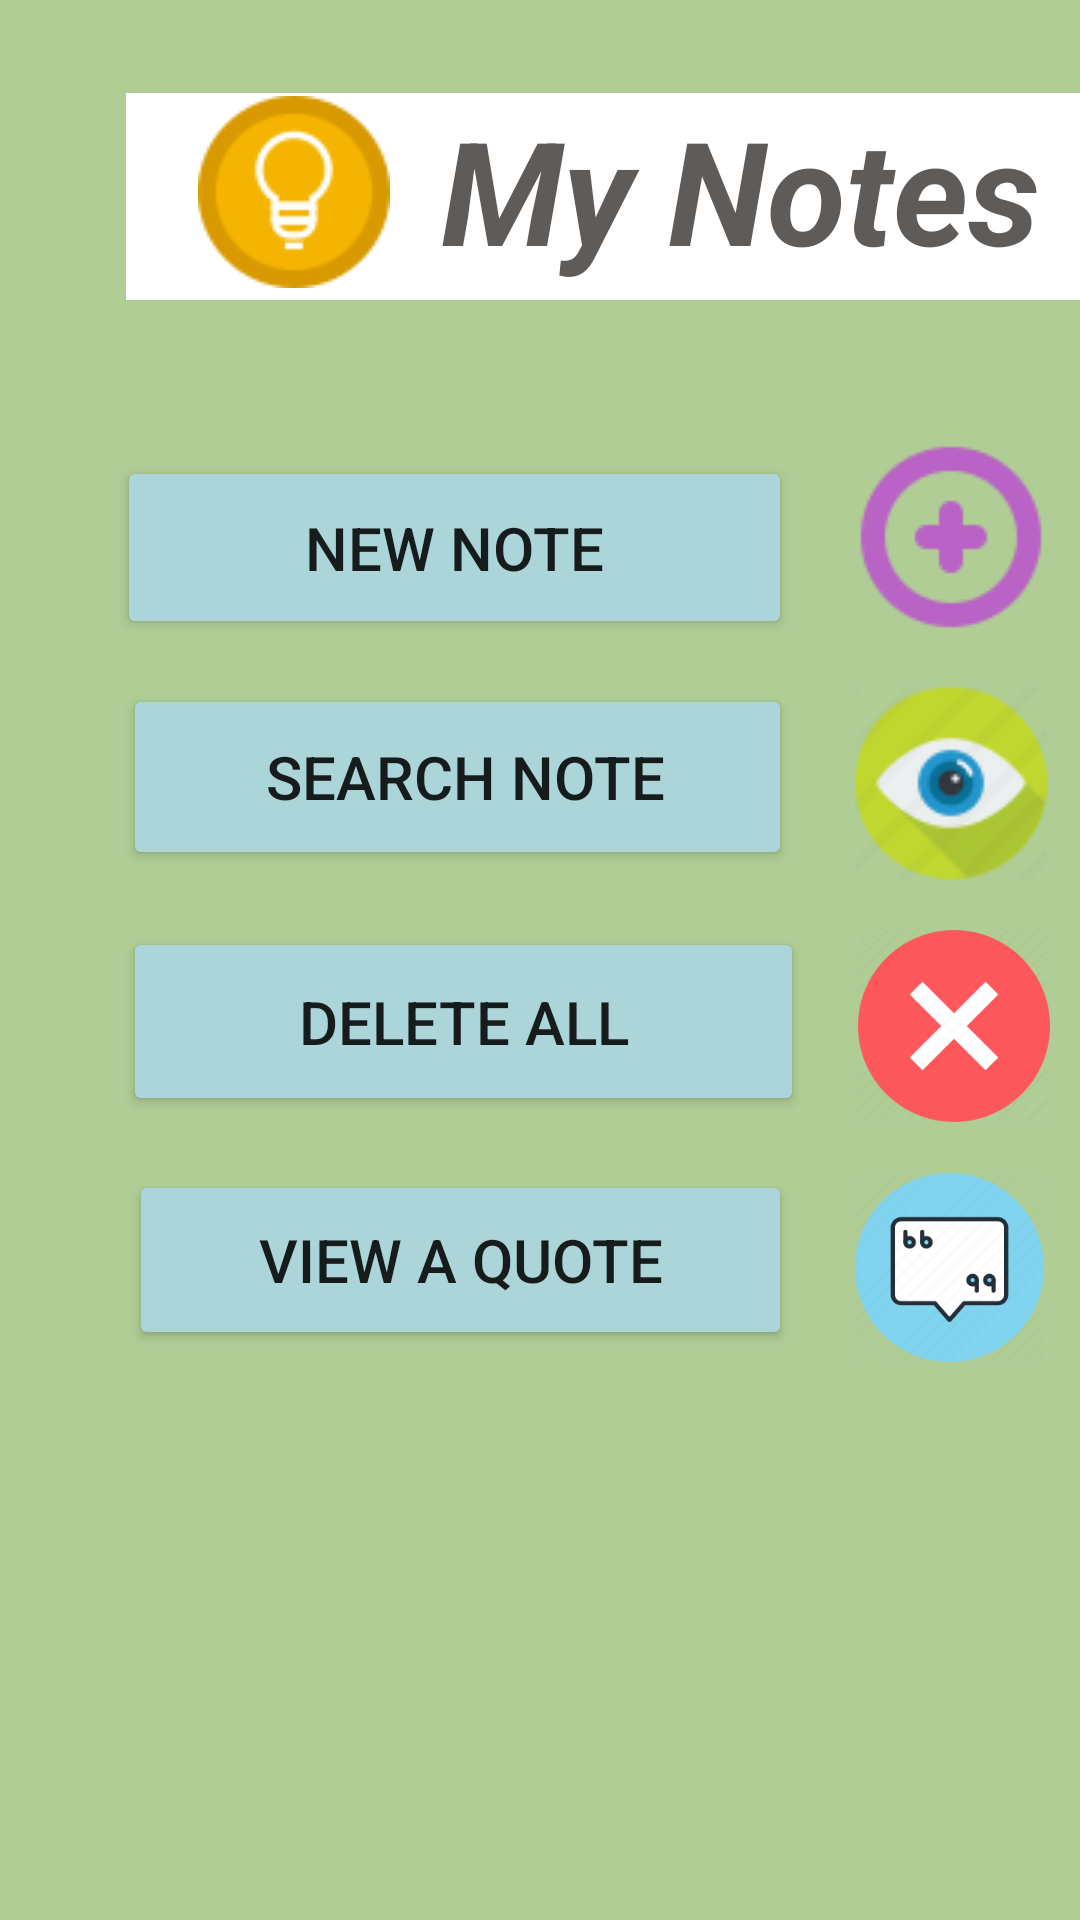

Icon click points for this 1080×1920 phone screenshot, format (x=x, y=y):
plus: (x=951, y=537)
view: (x=951, y=783)
